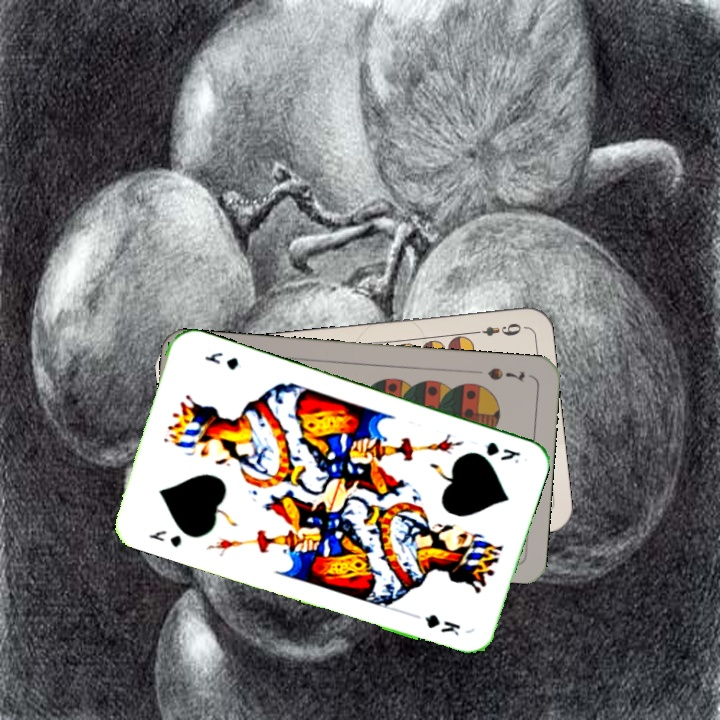E9: (468, 319, 524, 339)
GK: (482, 438, 523, 466), (145, 526, 184, 550)
S7: (484, 363, 527, 385)
